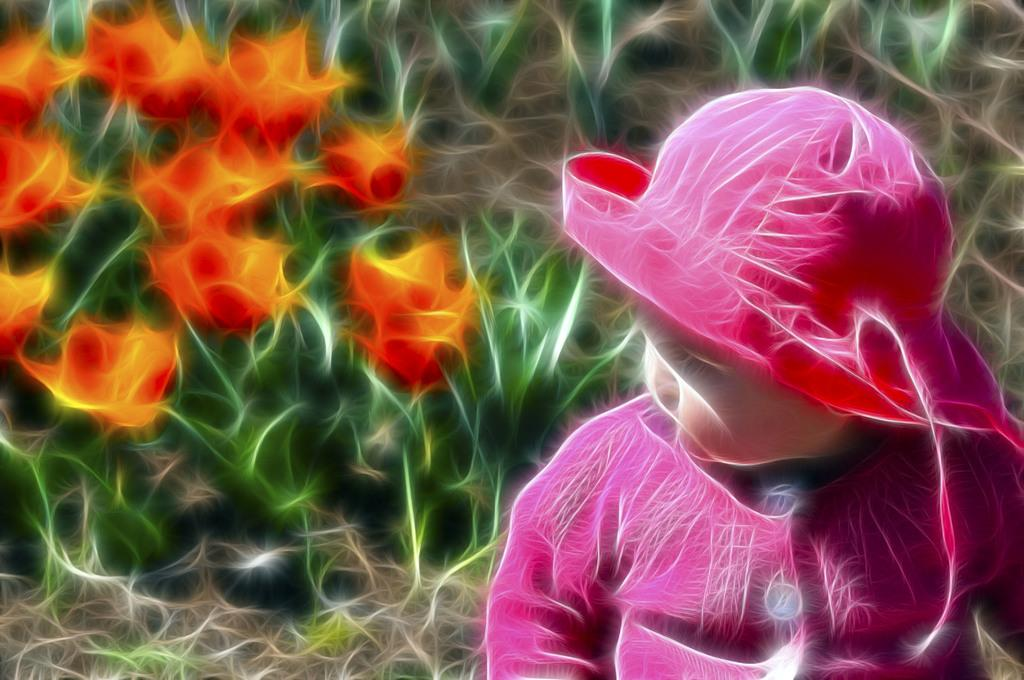Hat: (572, 94, 952, 446)
